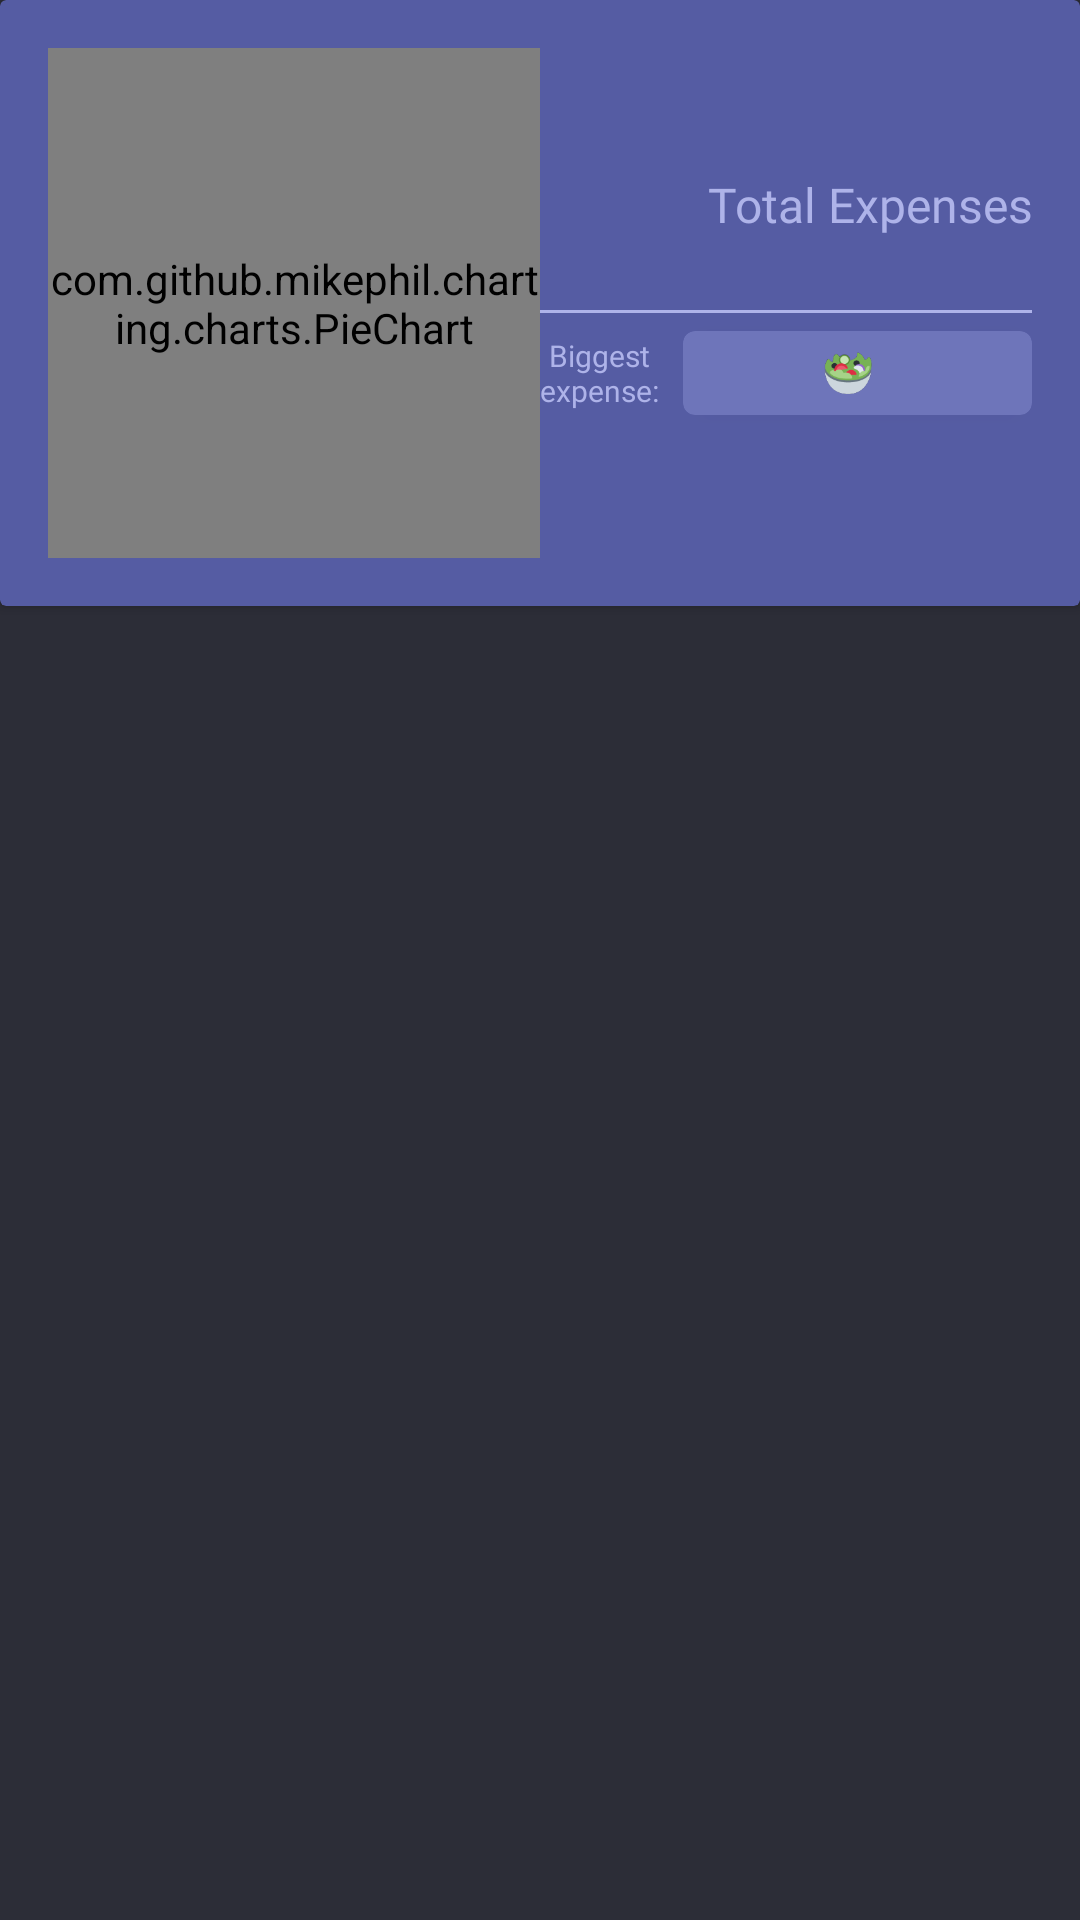

Icons on this 1080px x 1920px Android screen, each with its box as (x1, y1, x2, y2):
groceries: (825, 352, 872, 394)
